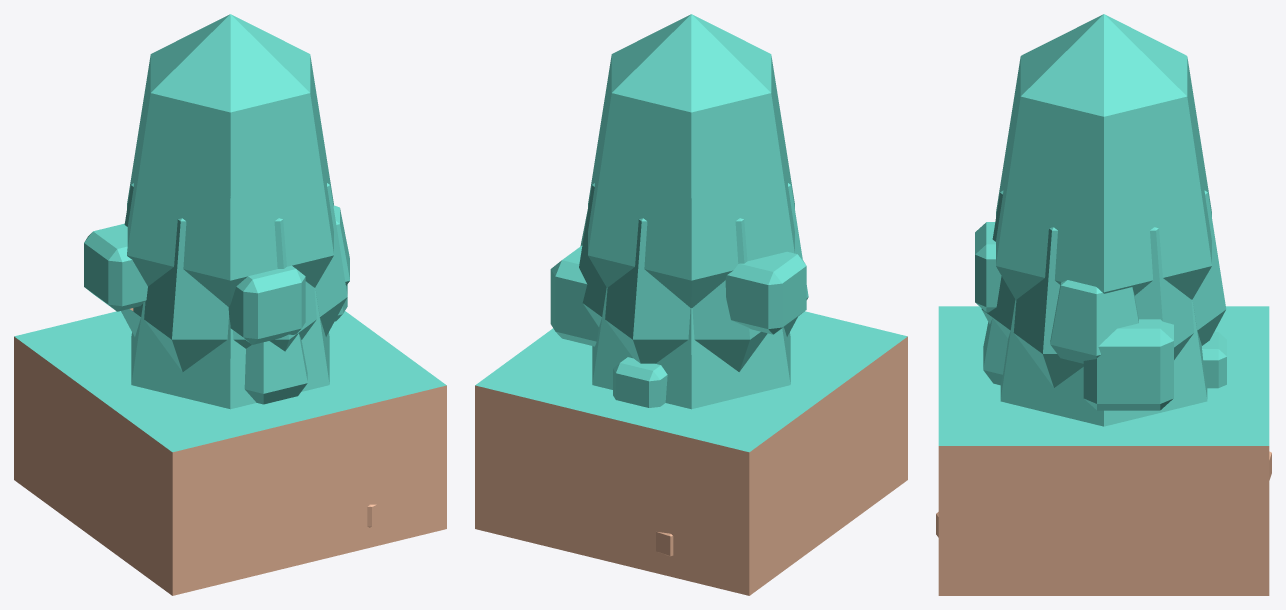
Rendered from world-forest.glb.
3 views of the same model, side by side, from view 1: azimuth 30°, elevation 25°; view 2: azimuth 150°, elevation 25°; view 3: azimuth 270°, elevation 25° (orthographic). The views are drawn at different scales.
Parts seen in each view (by area): view 1: cliff_blockHalf_rock, tree_default, tree_oak, tree_detailed, tree_fat, tree_thin; view 2: cliff_blockHalf_rock, tree_default, tree_oak, tree_detailed, tree_fat; view 3: cliff_blockHalf_rock, tree_default, tree_oak, tree_detailed, tree_fat, tree_thin.
Boxes of the visible parts, x1,y1,x2,y2 form: cliff_blockHalf_rock: (14, 311, 446, 595); tree_default: (127, 14, 333, 306); tree_oak: (121, 183, 347, 371); tree_detailed: (84, 223, 347, 344); tree_fat: (131, 287, 329, 409); tree_thin: (244, 205, 349, 404); cliff_blockHalf_rock: (475, 311, 907, 595); tree_default: (588, 14, 794, 307); tree_oak: (579, 183, 808, 371); tree_detailed: (550, 245, 806, 407); tree_fat: (592, 287, 790, 409); cliff_blockHalf_rock: (938, 306, 1269, 595); tree_default: (996, 14, 1211, 299); tree_oak: (981, 190, 1226, 387); tree_detailed: (975, 222, 1226, 410); tree_fat: (1000, 299, 1207, 426); tree_thin: (983, 280, 1138, 385).
Size of the model in its own units: 1 by 1.71 by 1.02.
